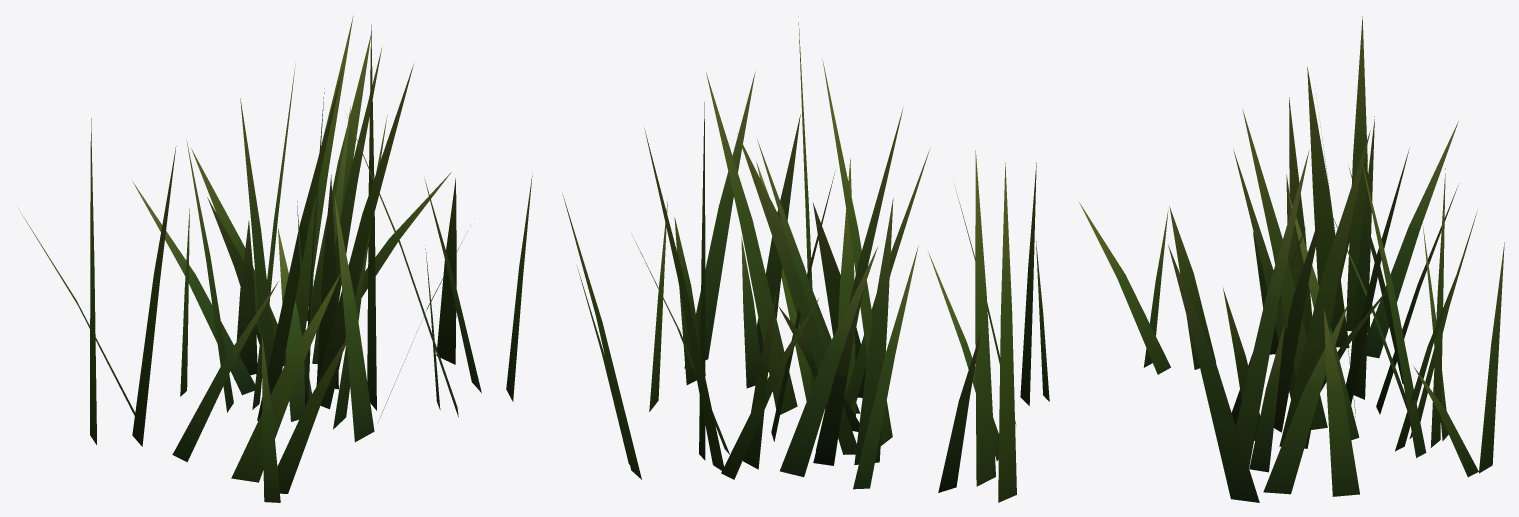
File: grass_b_2.glb
The picture shows the model from 3 angles, left to right: view 1: azimuth 30°, elevation 25°; view 2: azimuth 150°, elevation 25°; view 3: azimuth 270°, elevation 25°; orthographic projection. The views are drawn at different scales.
Visible parts, largest first — view 1: grass_b_2; view 2: grass_b_2; view 3: grass_b_2.
Boxes of the visible parts, x1,y1,x2,y2 form: grass_b_2: (18,16,532,502); grass_b_2: (562,16,1049,502); grass_b_2: (1079,16,1504,502).
Size of the model in its own units: 0.7221 by 0.598 by 0.6643.
